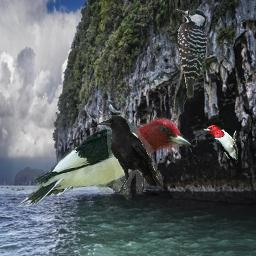Crow: (97, 115, 163, 194)
Woodpecker: (14, 110, 198, 217), (172, 6, 210, 115), (201, 125, 239, 165)
